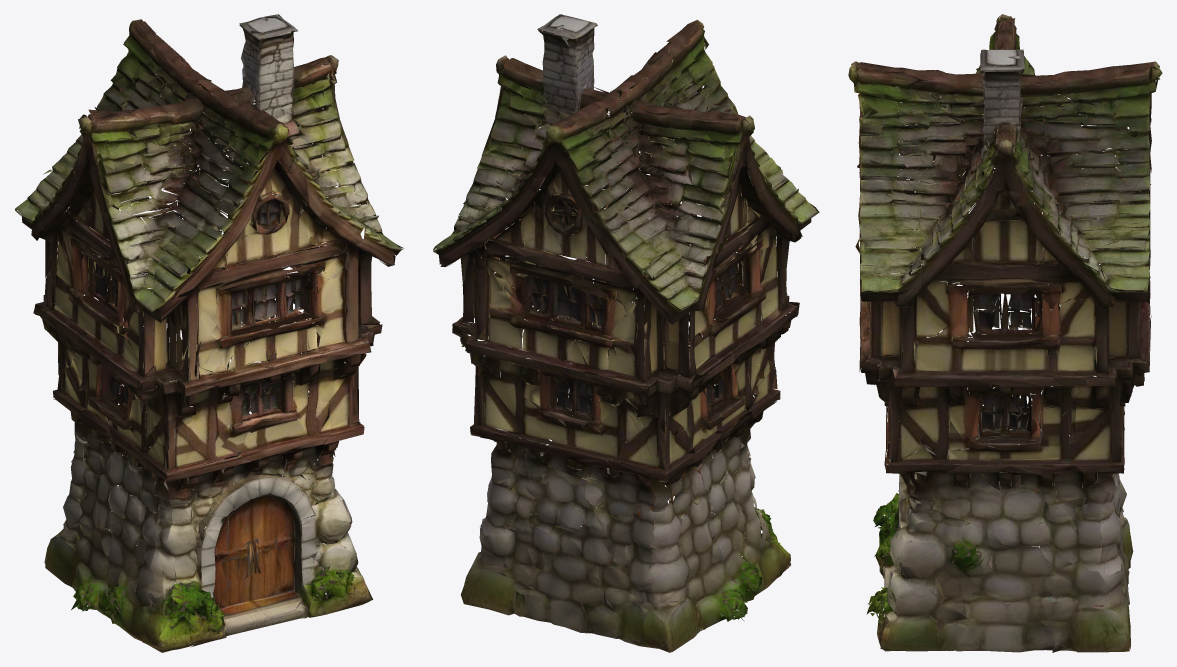
Rendered from Timberstone_Tower_Hou_town.glb.
3 views of the same model, side by side, from view 1: azimuth 30°, elevation 25°; view 2: azimuth 150°, elevation 25°; view 3: azimuth 270°, elevation 25° (orthographic). The views are drawn at different scales.
Visible parts, largest first — view 1: Timberstone_Tower_Hou; view 2: Timberstone_Tower_Hou; view 3: Timberstone_Tower_Hou.
Boxes of the visible parts, box(x1,y1,x2,y2) form: Timberstone_Tower_Hou: box(15, 14, 403, 652); Timberstone_Tower_Hou: box(433, 14, 819, 652); Timberstone_Tower_Hou: box(848, 14, 1162, 652).
Bounding box in the file's own units: 0.9411 × 1.92 × 0.9509.
Materials: 1 (1 with a texture image).
